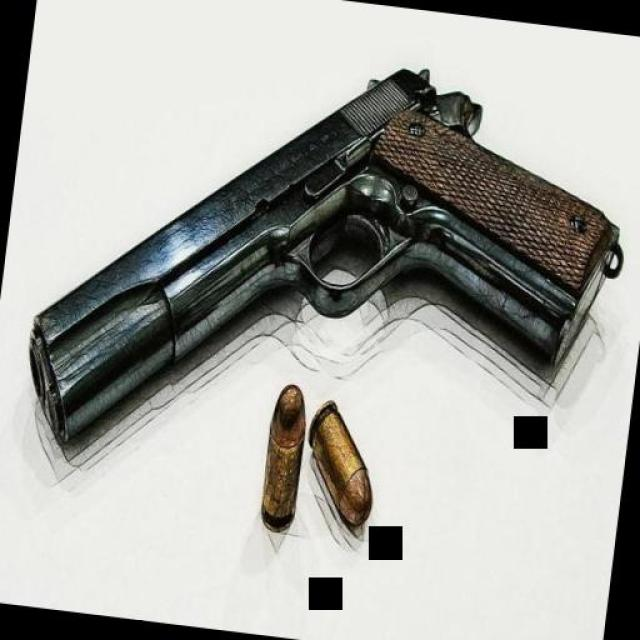gun: (13, 28, 632, 518)
